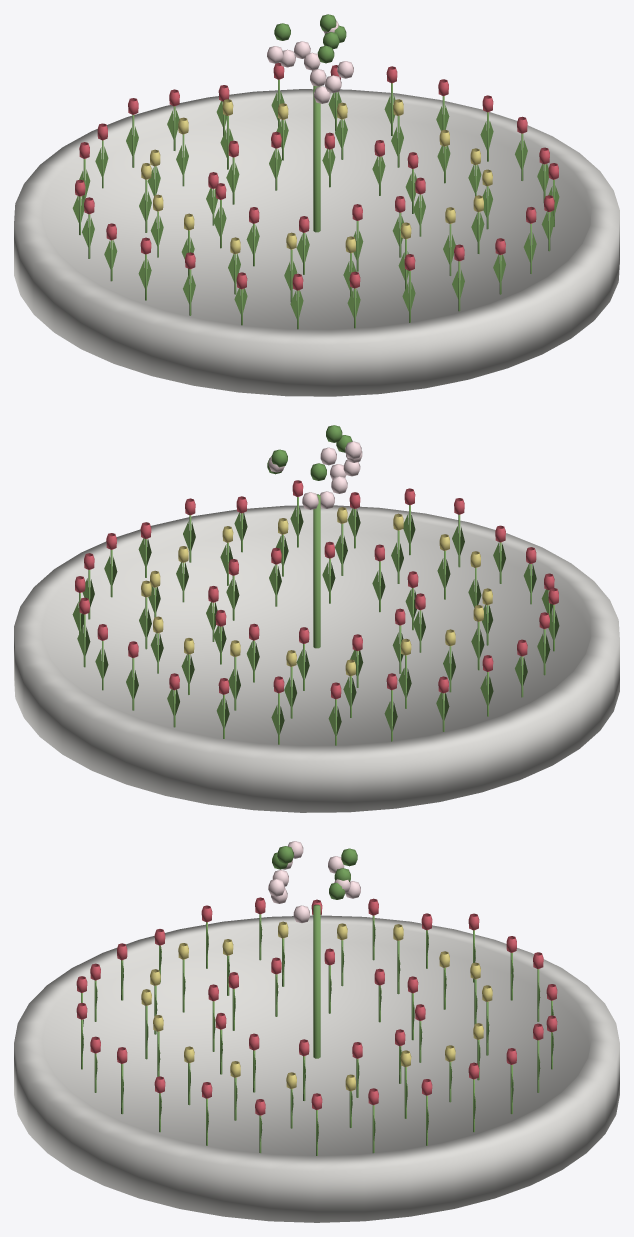
The model's file is flower_round.glb.
3 views of the same model, one above another, from view 1: azimuth 30°, elevation 25°; view 2: azimuth 150°, elevation 25°; view 3: azimuth 270°, elevation 25° (orthographic).
Parts seen in each view (by area): view 1: flower_round; view 2: flower_round; view 3: flower_round.
Part boxes in pixels (x1=…): flower_round: x1=14, y1=14, x2=619, y2=396; flower_round: x1=14, y1=425, x2=619, y2=812; flower_round: x1=14, y1=841, x2=619, y2=1222.
Bounding box in the file's own units: 3.2 × 1.44 × 3.2.
